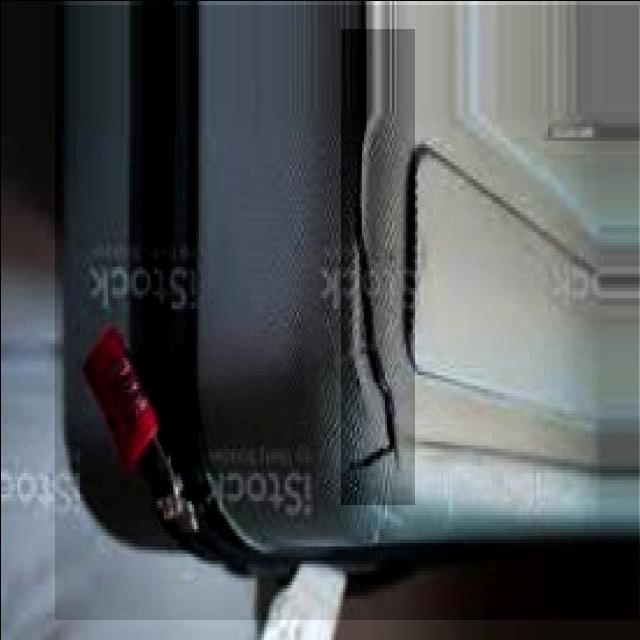Damage-bag: (351, 131, 399, 470)
